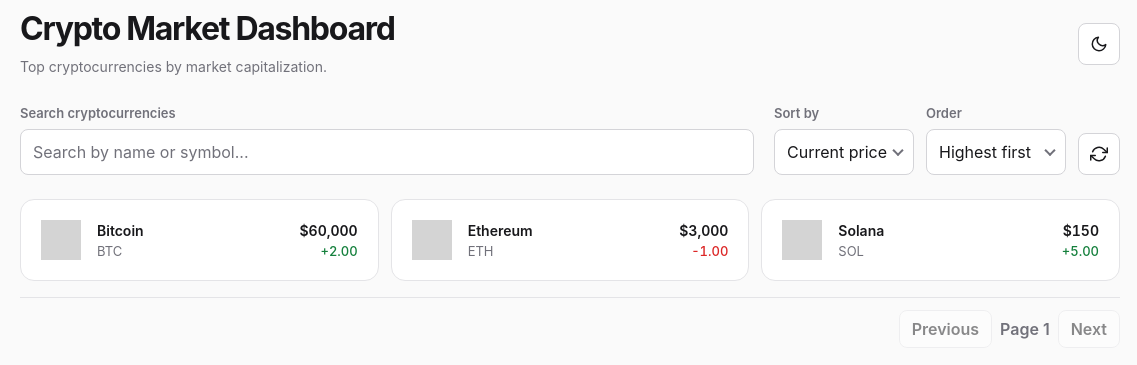
Crypto dashboard › searches coins by name via the API
The width and height of the screenshot is (1137, 365).
Type "ethereum" into the search field labelled "Search cryptocurrencies" at (387,152), box [20,129,754,175]
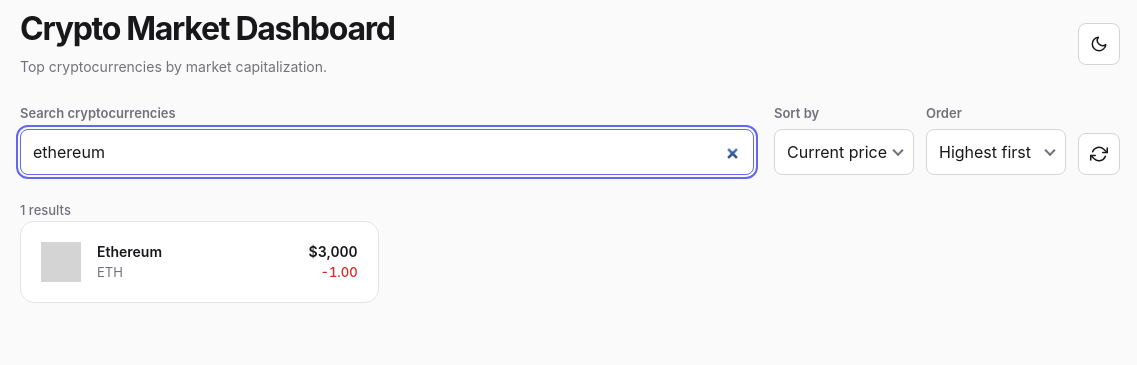
Expected: the text "Ethereum" is shown, [97,243,162,260]
Expected: the button "Bitcoin" is gone
Expected: the button "Solana" is gone
